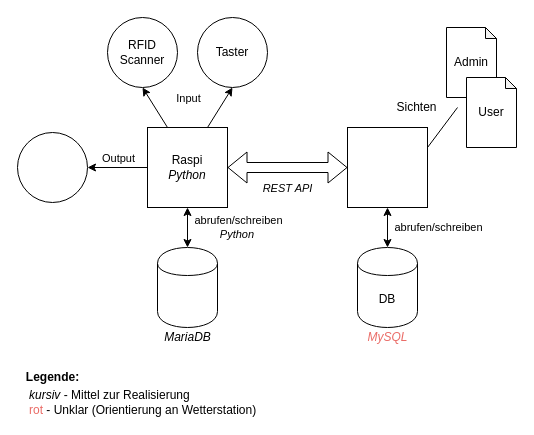
Some shapes in this 534 by 435 pixel diagram are drawn without their labels. The shapes that lost their labels are listed below. From the top down, each one's centre as x and y in pixels, then its label:
[52,167]: RGB-LED
[387,167]: Webserver Angular/ Django
[187,287]: DB (Cache)
